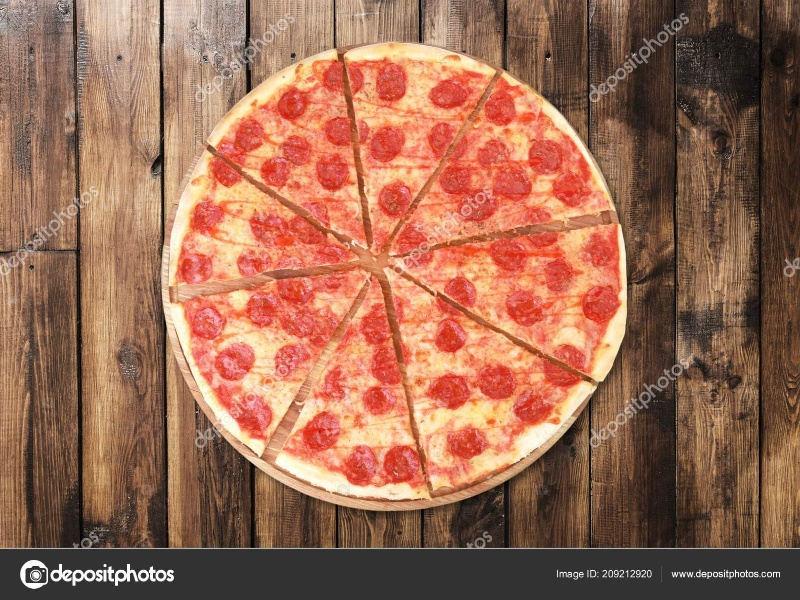pepperonis: (537, 345, 591, 387), (236, 290, 283, 332), (500, 287, 549, 327), (431, 68, 476, 110), (488, 158, 532, 200), (428, 373, 475, 412), (372, 60, 412, 104), (378, 177, 414, 221), (230, 398, 275, 433), (247, 210, 288, 248), (478, 359, 514, 402), (307, 408, 342, 452), (317, 151, 351, 195), (216, 341, 253, 381), (483, 241, 532, 271), (359, 384, 397, 422), (446, 162, 483, 200), (581, 282, 617, 321), (271, 87, 308, 124), (515, 384, 549, 424), (348, 443, 378, 488), (187, 305, 228, 337), (387, 440, 416, 484), (259, 155, 294, 189), (544, 256, 575, 294), (362, 303, 391, 343), (194, 203, 226, 237), (430, 324, 470, 351), (377, 125, 405, 162), (184, 253, 213, 283)
